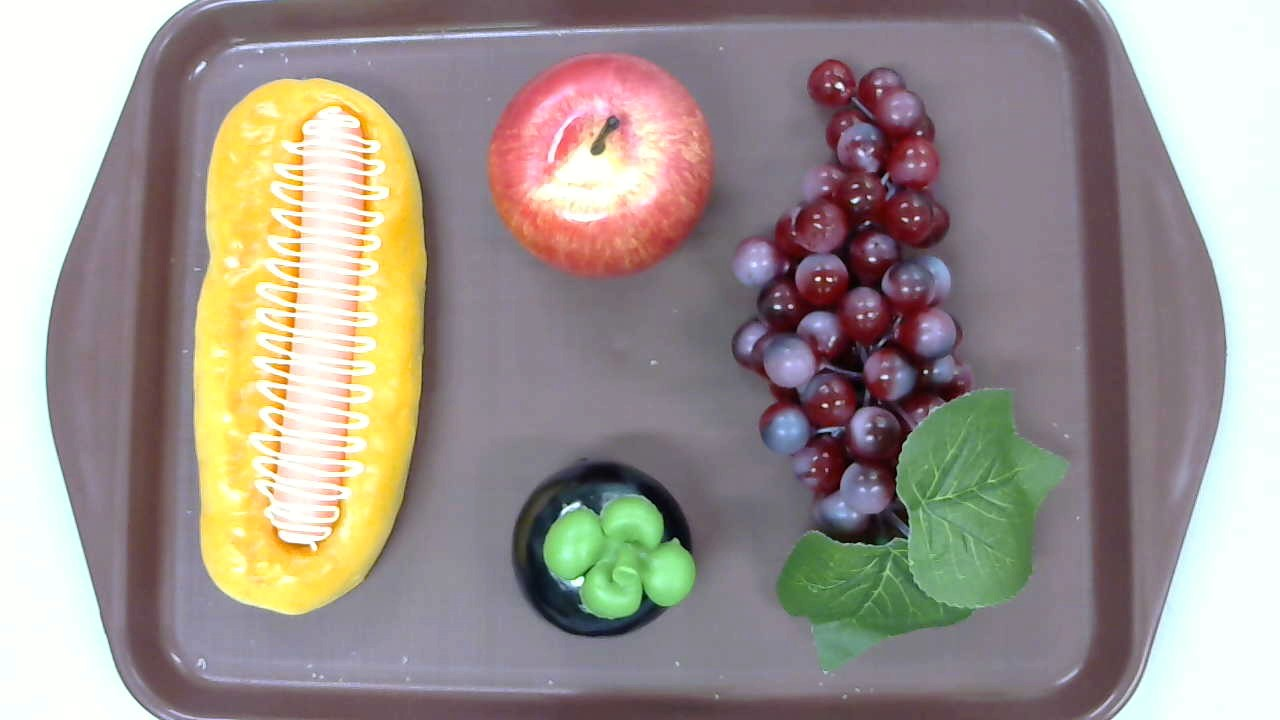grape: (732, 58, 1070, 681)
hot dog: (191, 78, 426, 616)
mangosteen: (513, 456, 695, 638)
red apple: (487, 53, 716, 282)
